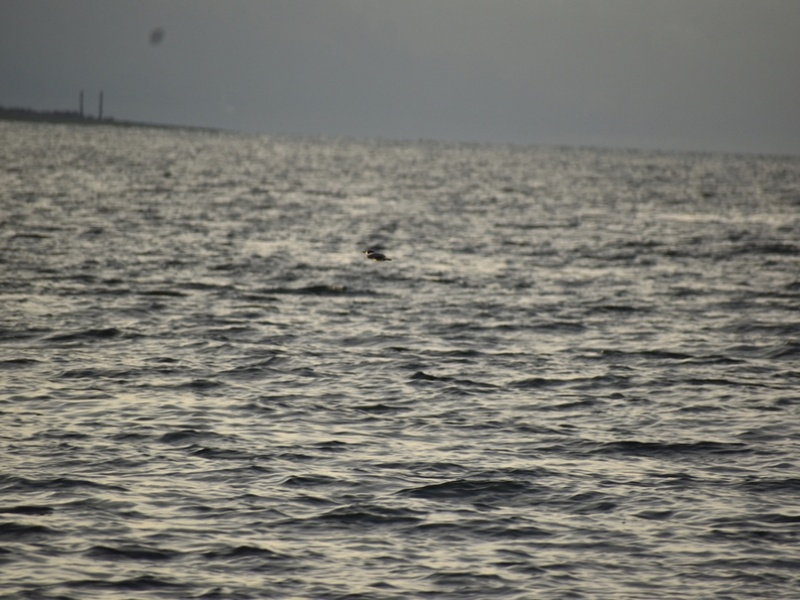kingfisher: (362, 247, 388, 263)
